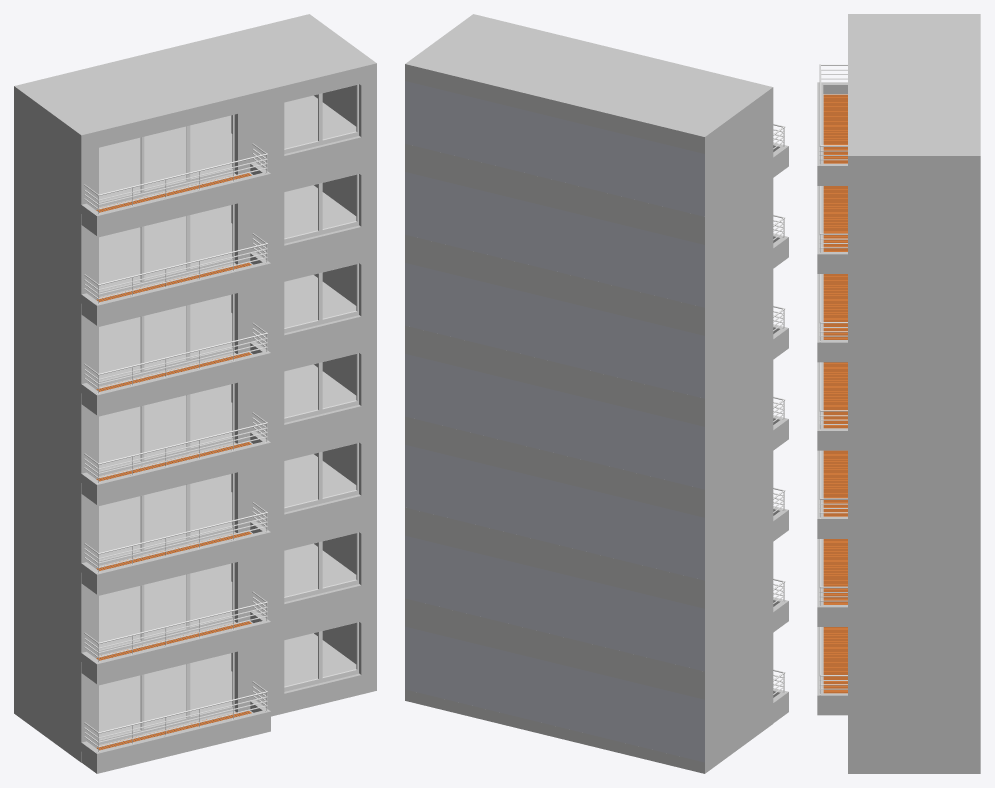
Rendered from apartment-v1.glb.
The picture shows the model from 3 angles, left to right: view 1: azimuth 30°, elevation 25°; view 2: azimuth 150°, elevation 25°; view 3: azimuth 270°, elevation 25°; orthographic projection. The views are drawn at different scales.
Parts seen in each view (by area): view 1: Building (×7), Window (×7), HorizontalBalcony (×7), Window.001 (×7), BalconyWoodTables (×7); view 2: Building (×7); view 3: Building (×7), BalconyWoodTables (×7), HorizontalBalcony.
Part boxes in pixels (x1,y1,x2,y2): Building (×7): (14, 14, 376, 773); Window (×7): (99, 114, 234, 744); HorizontalBalcony (×7): (84, 148, 267, 747); Window.001 (×7): (284, 84, 358, 691); BalconyWoodTables (×7): (96, 173, 251, 750); Building (×7): (405, 14, 788, 773); Building (×7): (817, 14, 980, 773); BalconyWoodTables (×7): (823, 94, 847, 693); HorizontalBalcony: (819, 69, 847, 160).
Size of the model in its own units: 16.97 by 34.45 by 8.25.
